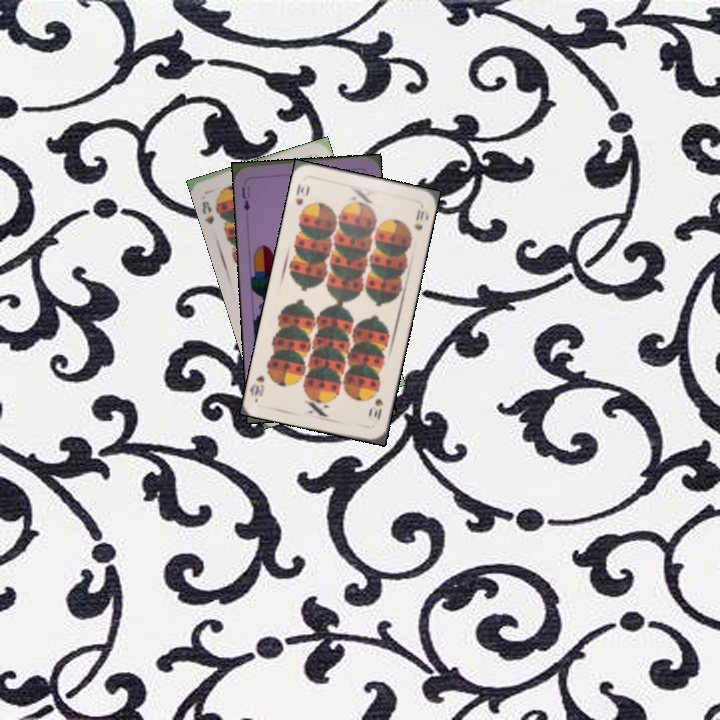EU: (238, 182, 252, 214)
S10: (291, 180, 312, 217), (366, 395, 386, 423)
S8: (198, 197, 217, 227)
